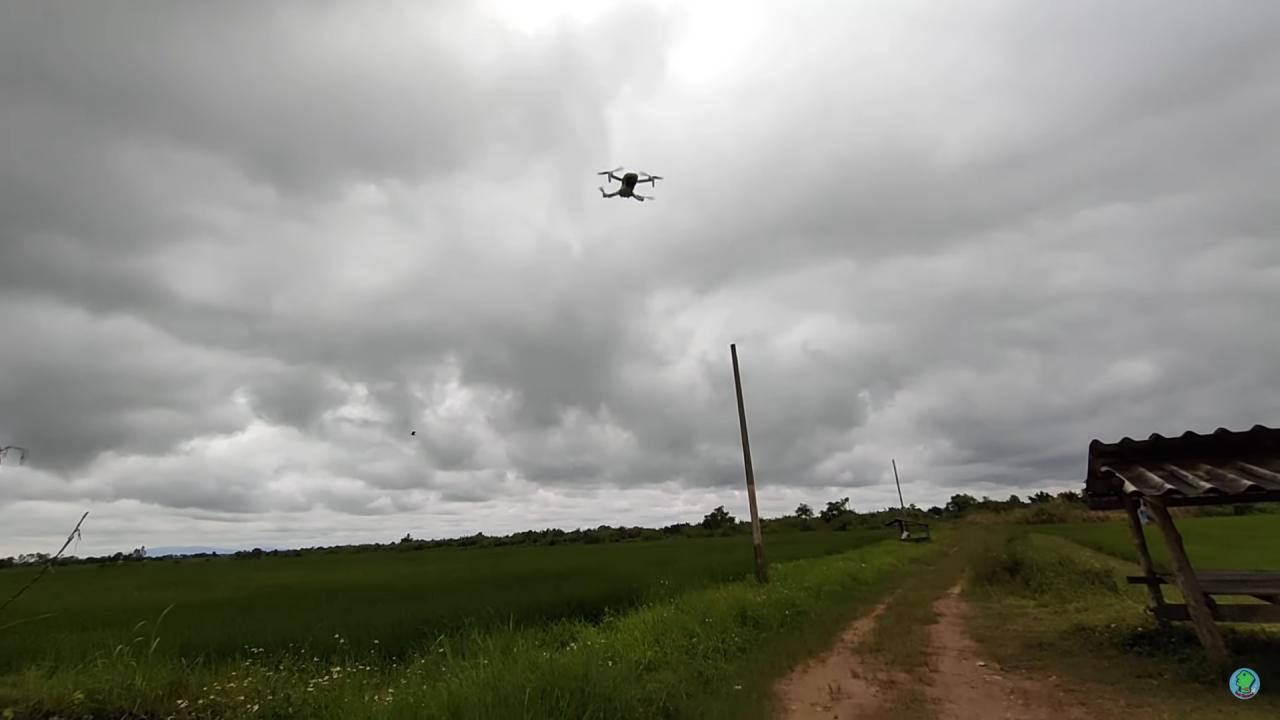Drone: (588, 154, 672, 212)
